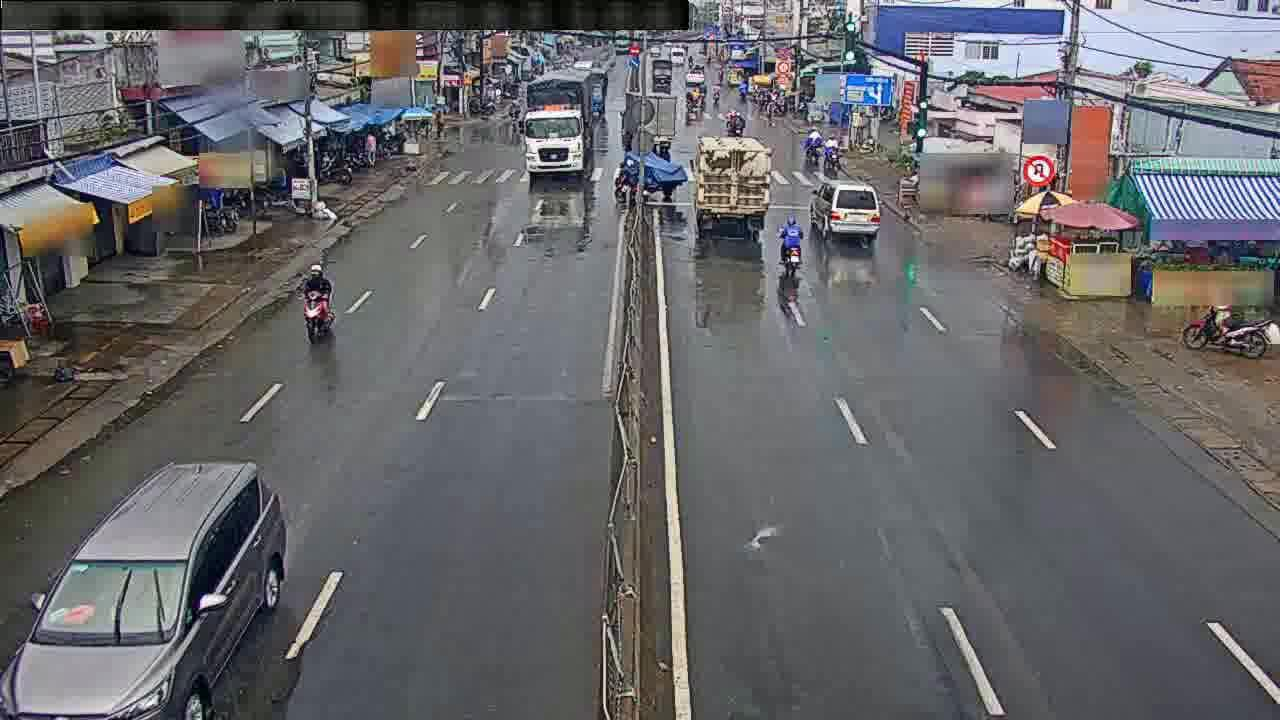8: (691, 140, 772, 238), (525, 70, 590, 174)
container: (15, 459, 302, 720), (809, 172, 883, 236)
motorbike: (296, 263, 337, 346), (775, 214, 805, 280), (823, 128, 841, 173), (802, 127, 821, 157), (726, 109, 743, 139)
